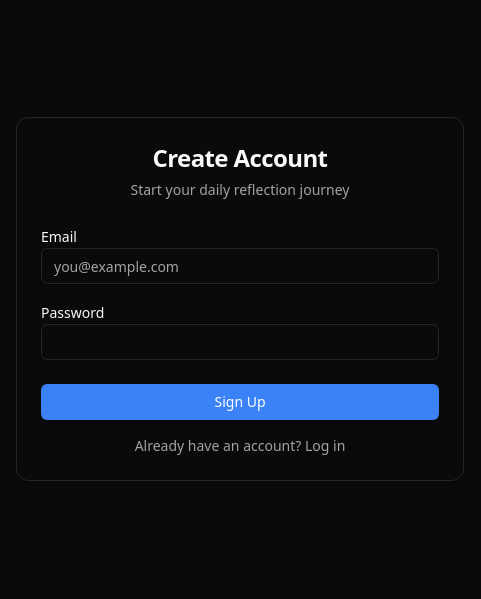
Scenario: SignupPage › shows error on signup failure
This screenshot has width=481, height=599.
Type "test@example.com" into the field labelled "Email" at (240, 266), box [41, 248, 439, 284]
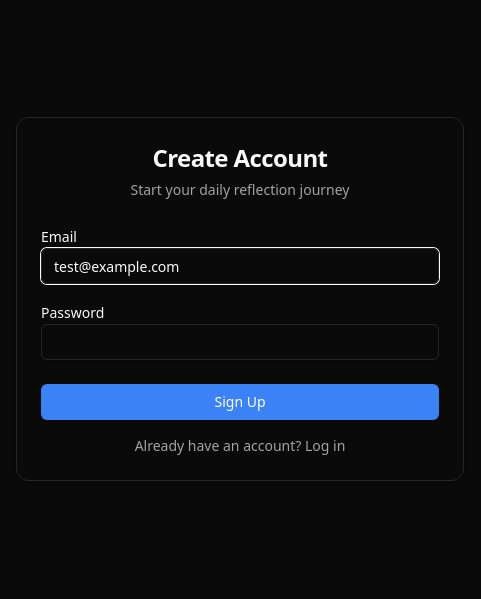
Type "SecurePass123!" into the password field labelled "Password" at (240, 342), box [41, 324, 439, 360]
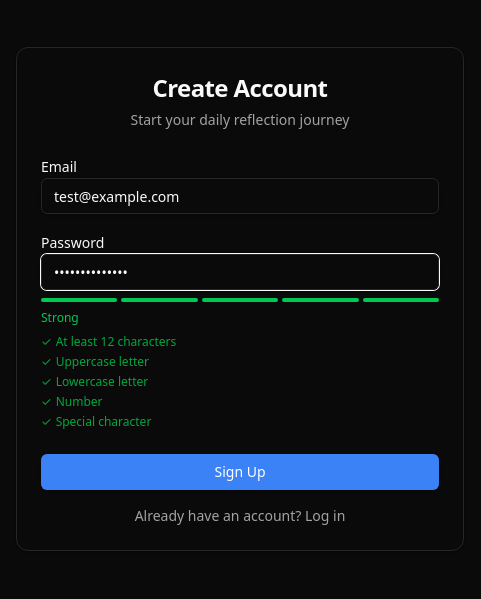
Click the button "Sign Up" at (240, 472), box [41, 454, 439, 490]
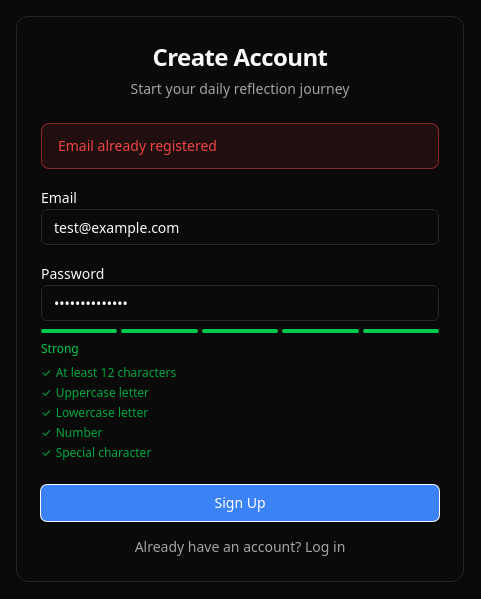
Check: the text "Email already registered" is shown, box [41, 123, 439, 169]
